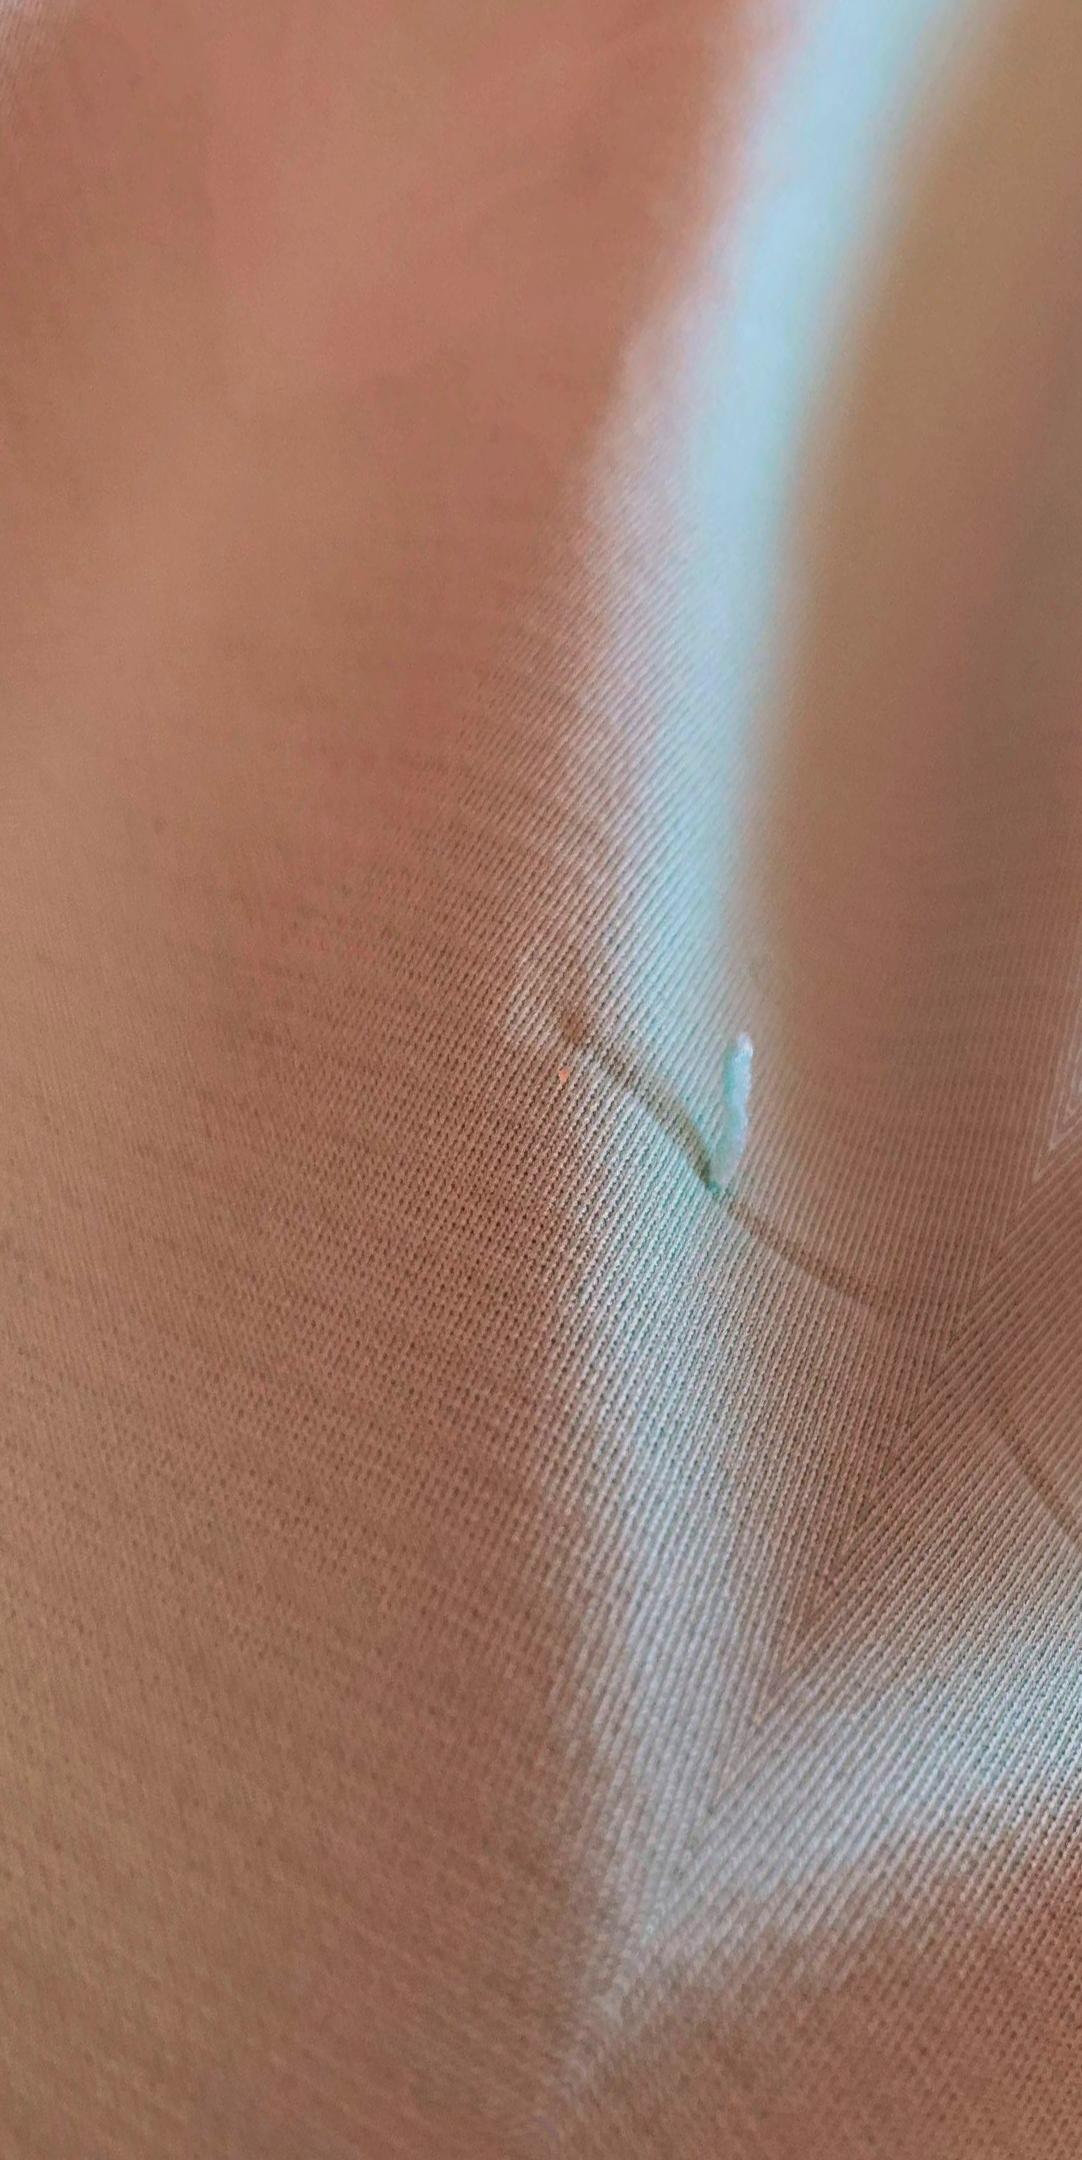snag: (643, 921, 845, 1295)
